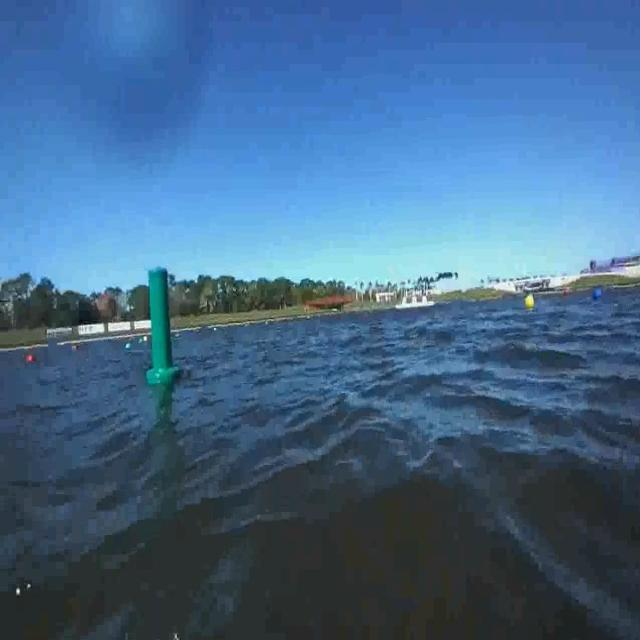green-buoy: (126, 344, 134, 352)
green-column-buoy: (144, 263, 180, 384)
red-buoy: (27, 354, 35, 364)
yellow-buoy: (525, 292, 535, 309)
